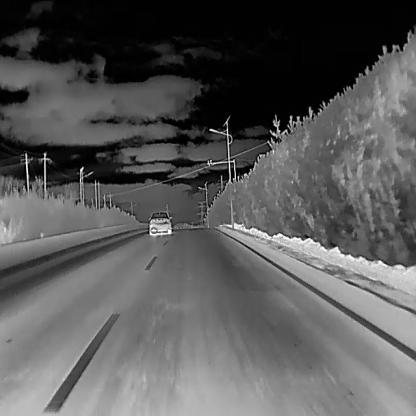car: (148, 210, 172, 235)
